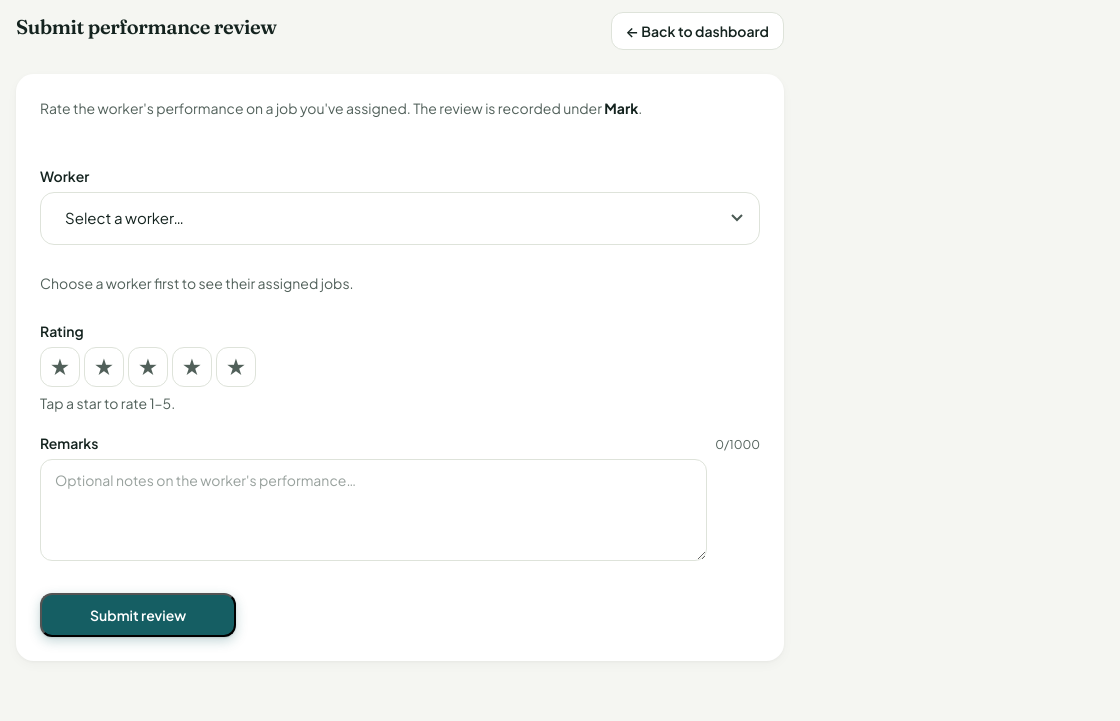
Test case: SubmitReview › shows an error toast and keeps the form filled when the POST fails
Select "Ben (ben@example.com)" in the dropdown labelled "Worker": (400, 218) [40,192,760,244]
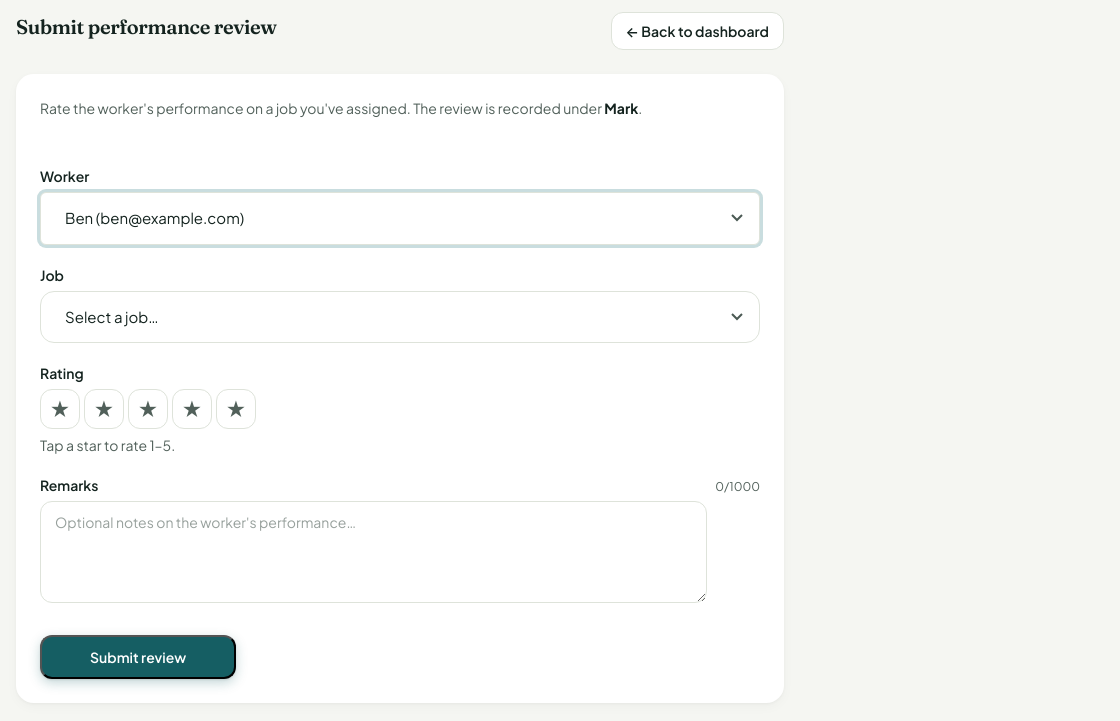
Select "Driver · ₹700/day" in the dropdown labelled "Job": (400, 317) [40,290,760,343]
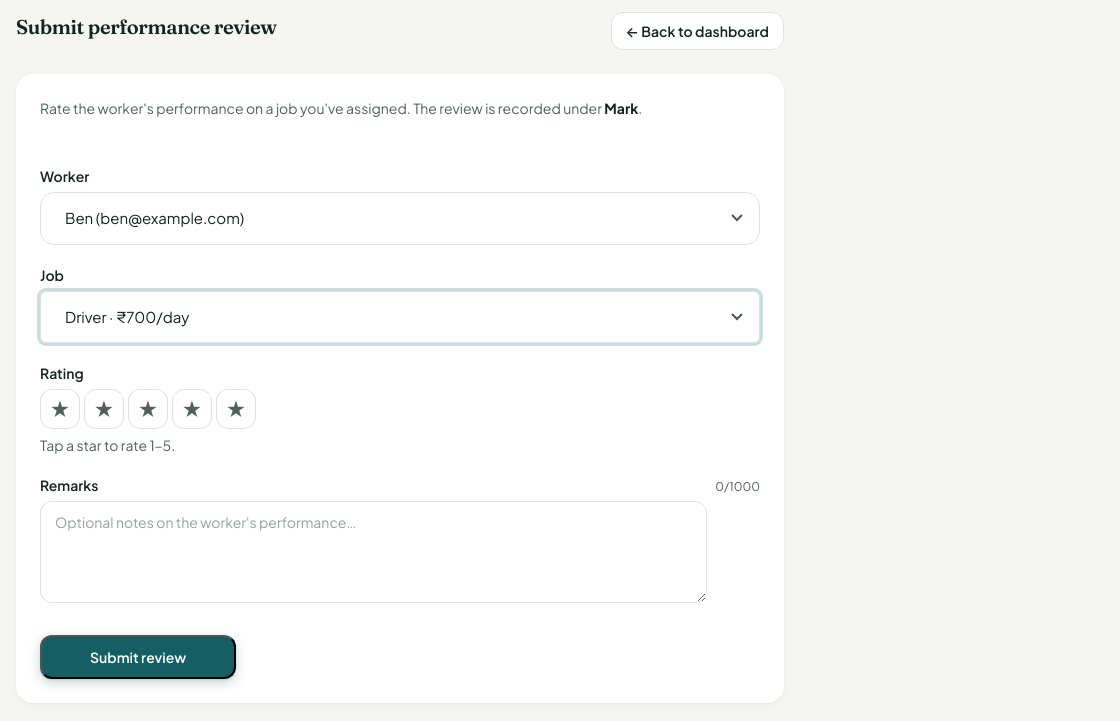
Click the radio button named "Rate 5 out of 5": (236, 409) [216,389,256,429]
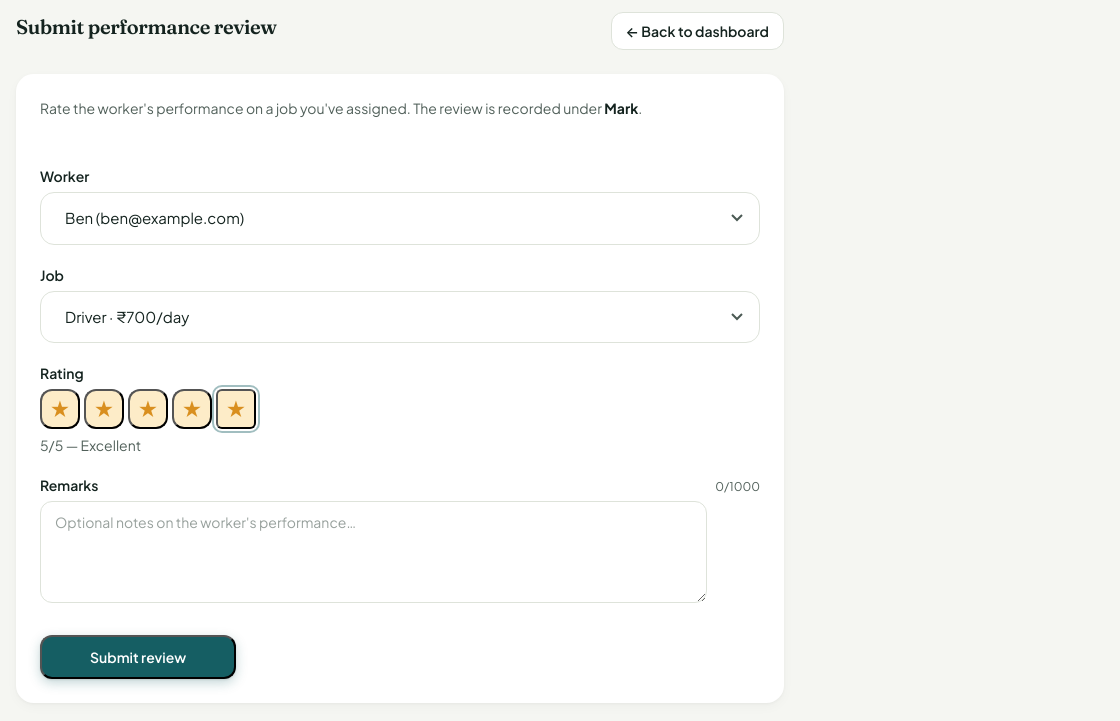
Click the button "Submit review": (138, 657) [40,635,236,679]
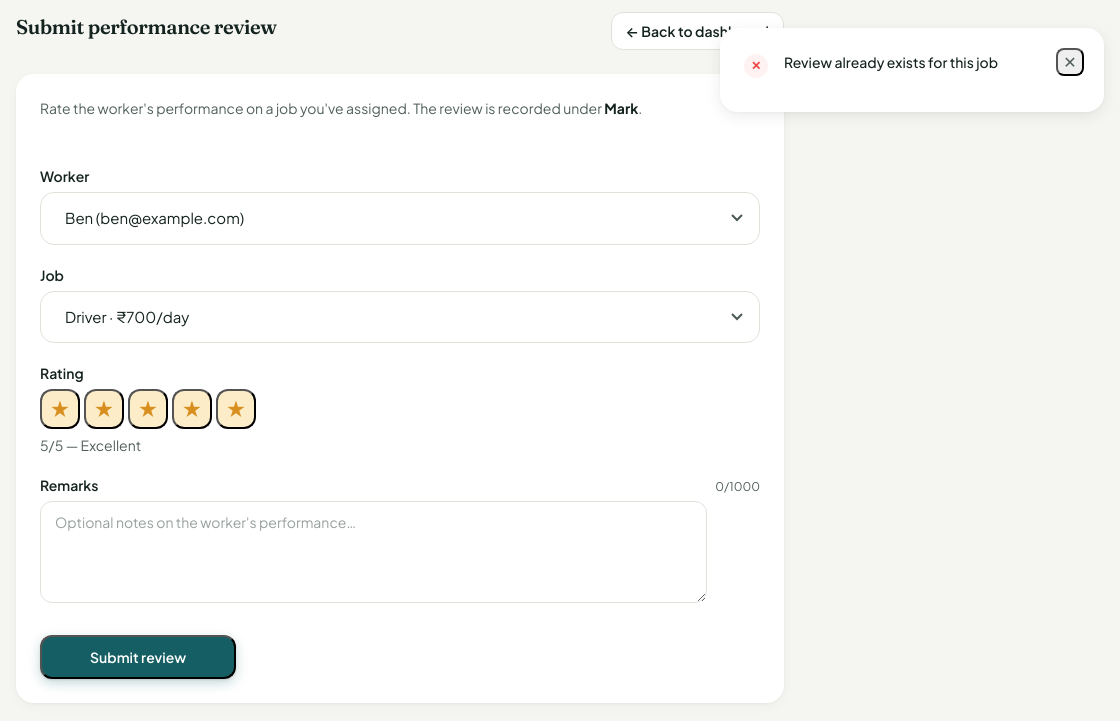
Expected: the text "Review already exists for this job" is shown, [784,53,998,71]
